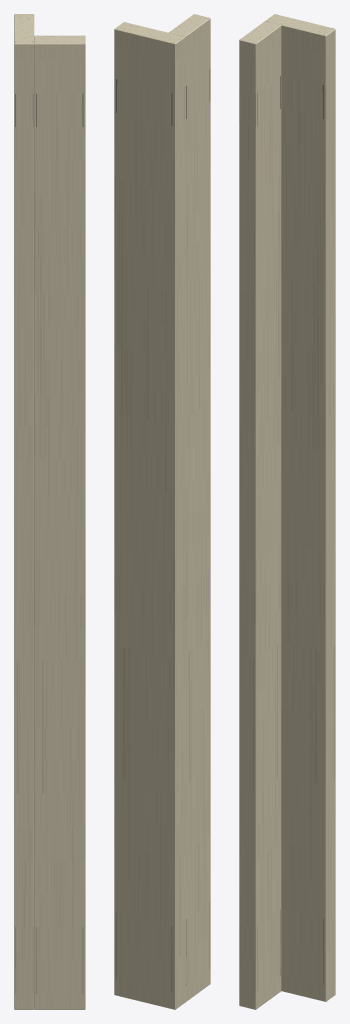
File: house_corner_trim.glb
3 renders of one model, left to right at view 1: azimuth 90°, elevation 25°; view 2: azimuth 150°, elevation 25°; view 3: azimuth 330°, elevation 25°, orthographic.
Visible parts, largest first — view 1: house_corner_trim; view 2: house_corner_trim; view 3: house_corner_trim.
Part boxes in pixels (x1,y1,x2,y2): house_corner_trim: (14, 14, 85, 1009); house_corner_trim: (114, 14, 210, 1009); house_corner_trim: (239, 14, 335, 1009).
Size of the model in its own units: 0.18 by 2.7 by 0.18.
1 material, 1 textured.
